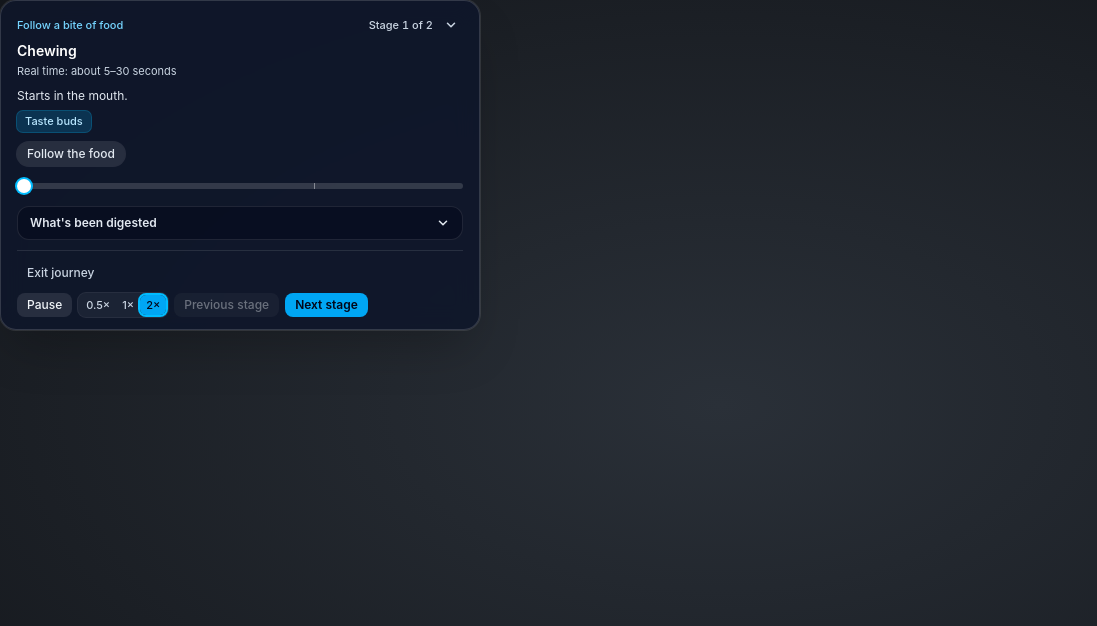
Scenario: JourneyBar › renders stage narration, real time, speed toggle, follow chip, and PageDown/PageUp navigation
The image size is (1097, 626).
Earlier steps of the test are not shown.
Later steps or results of the test are not shown.
Click the button "Follow the food" at (71, 154), box top-left (17, 142), bottom-right (125, 166)
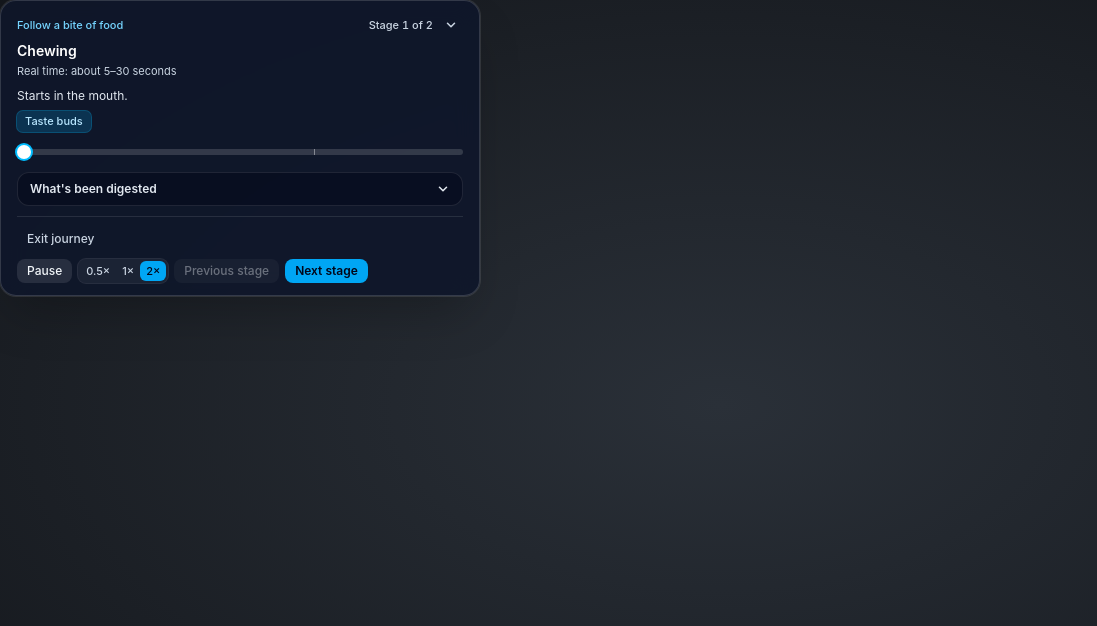
Press PageDown in the slider named "Journey progress", box top-left (17, 144), bottom-right (31, 158)
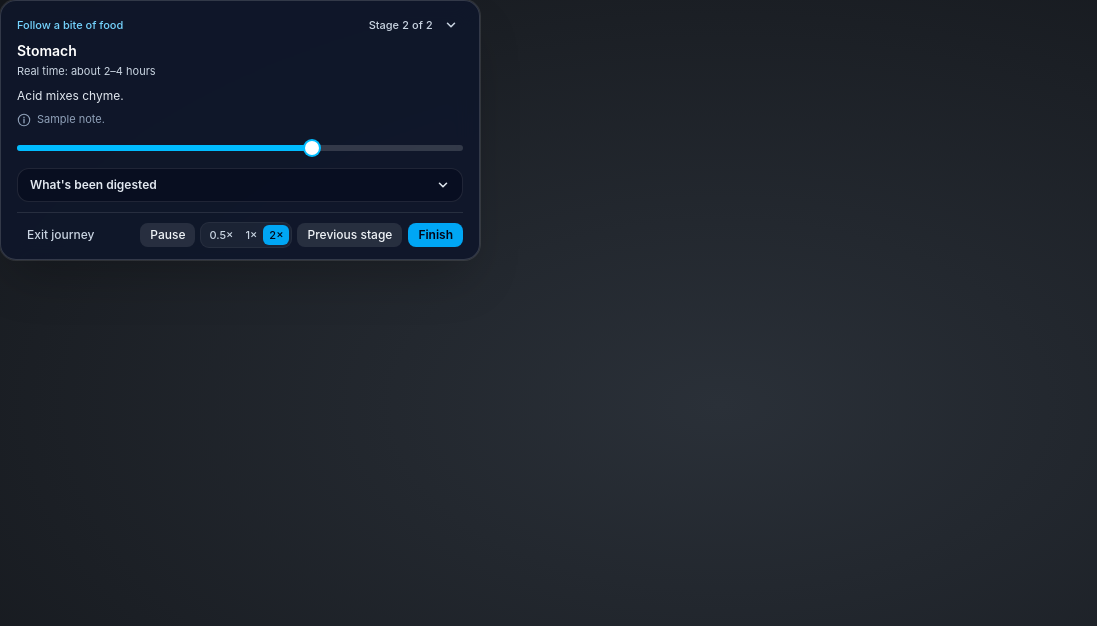
Result: the text "Sample note." is shown at top-left (37, 111), bottom-right (105, 128)
Result: the button "Finish" is shown at top-left (408, 223), bottom-right (463, 247)
